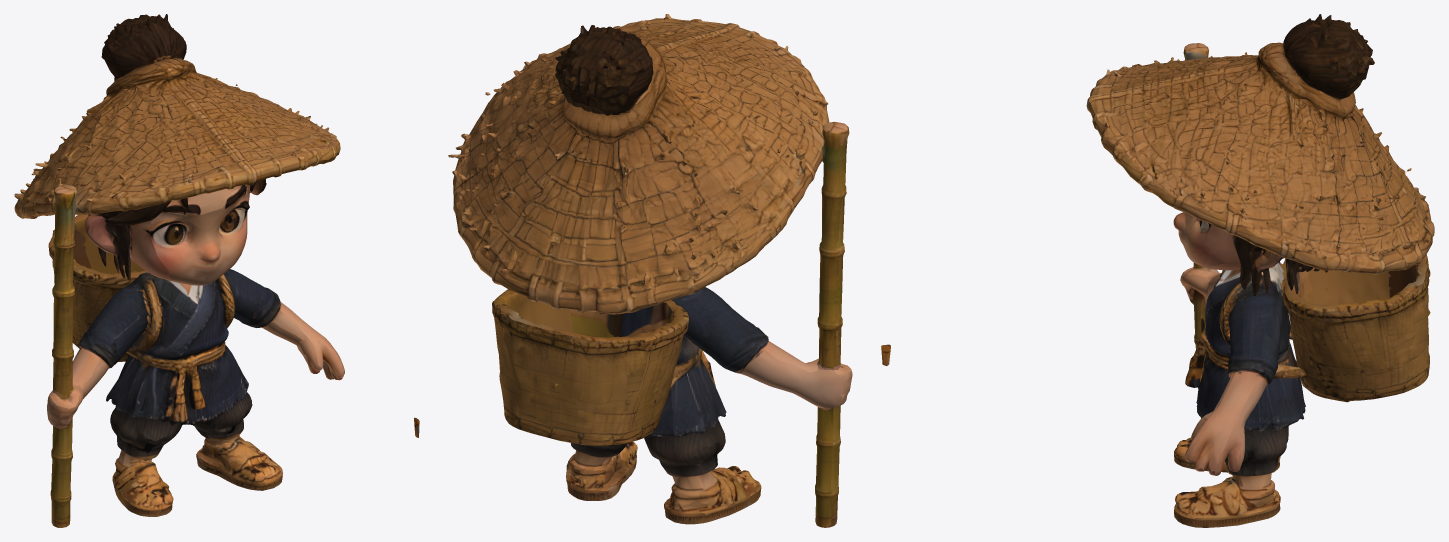
File: ruanzhao.glb
3 views of the same model, side by side, from view 1: azimuth 30°, elevation 25°; view 2: azimuth 150°, elevation 25°; view 3: azimuth 270°, elevation 25° (orthographic). The views are drawn at different scales.
Parts seen in each view (by area): view 1: 1_output_1794003541398746_xSxiJpWVt; view 2: 1_output_1794003541398746_xSxiJpWVt; view 3: 1_output_1794003541398746_xSxiJpWVt.
Part boxes in pixels (x1,y1,x2,y2): 1_output_1794003541398746_xSxiJpWVt: [14, 14, 419, 527]; 1_output_1794003541398746_xSxiJpWVt: [448, 14, 852, 527]; 1_output_1794003541398746_xSxiJpWVt: [881, 14, 1434, 527].
Bounding box in the file's own units: 1.3 × 1.84 × 1.96.
1 material, 1 textured.
